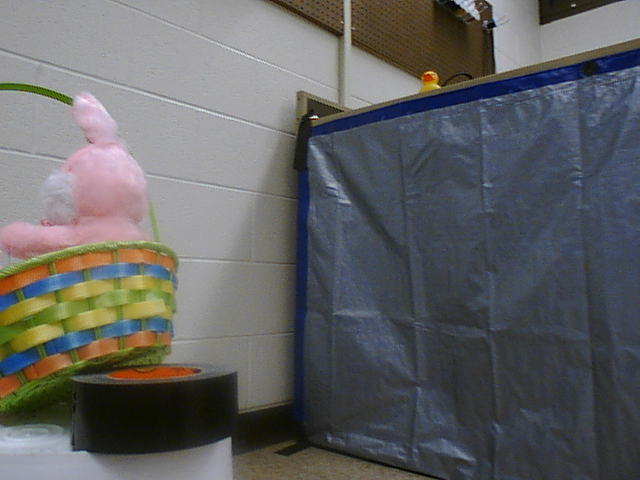bunny: (1, 83, 194, 407)
